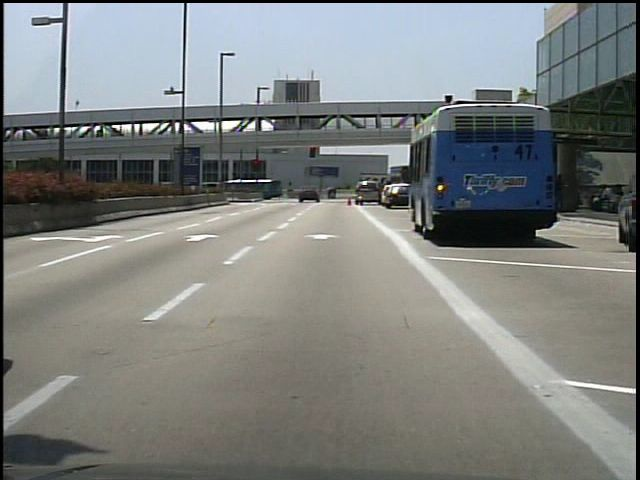person: (590, 183, 611, 210), (554, 175, 564, 210), (326, 187, 338, 201), (330, 185, 340, 201)
